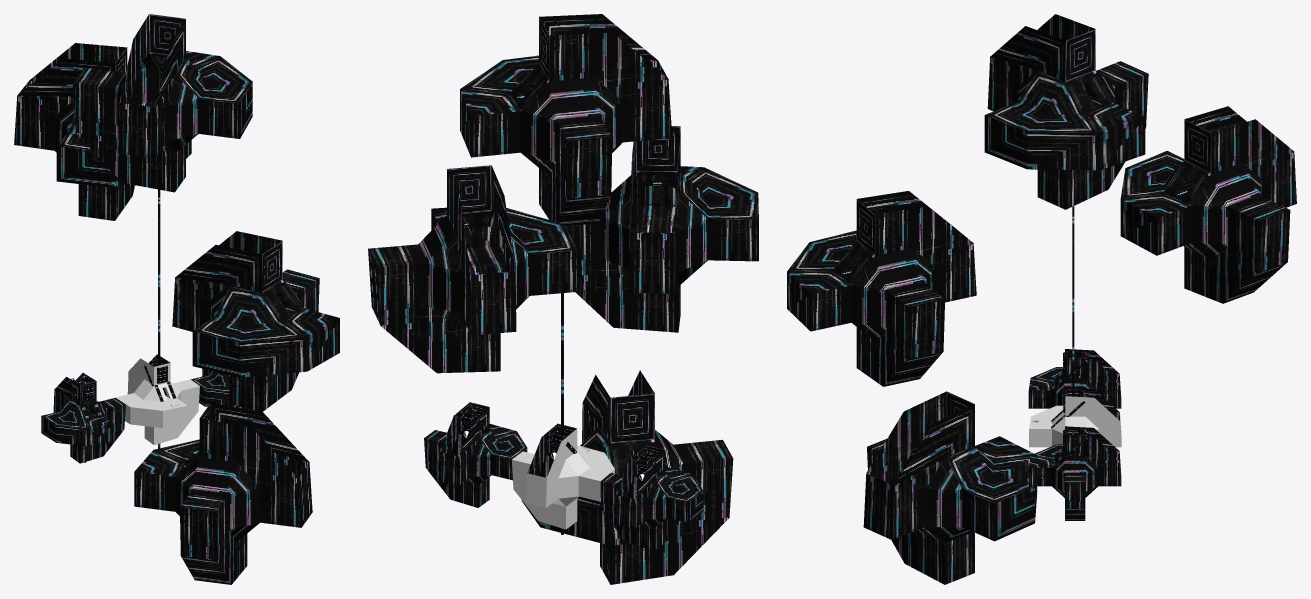
The model's file is test.xrf.glb.
3 views of the same model, side by side, from view 1: azimuth 30°, elevation 25°; view 2: azimuth 150°, elevation 25°; view 3: azimuth 270°, elevation 25° (orthographic). The views are drawn at different scales.
Parts seen in each view (by area): view 1: platform.009, platform.001, platform.007, platform.008, wireframe.001, wireframe, wireframe.002, pillar2.004; view 2: platform.007, platform.008, platform.009, platform.001, wireframe.001, wireframe.002, wireframe, platform; view 3: platform.008, platform.009, platform.007, platform.001, wireframe.002, wireframe.001, wireframe.
Boxes of the visible parts, left/top/right/bottom form: platform.009: left=172, top=231, right=339, bottom=412; platform.001: left=134, top=403, right=312, bottom=584; platform.007: left=73, top=14, right=252, bottom=192; platform.008: left=14, top=43, right=191, bottom=220; wireframe.001: left=41, top=373, right=125, bottom=463; wireframe: left=115, top=358, right=199, bottom=445; wireframe.002: left=191, top=368, right=254, bottom=410; pillar2.004: left=158, top=189, right=160, bottom=448; platform.007: left=460, top=14, right=672, bottom=226; platform.008: left=368, top=165, right=579, bottom=373; platform.009: left=565, top=126, right=758, bottom=332; platform.001: left=521, top=370, right=733, bottom=584; wireframe.001: left=600, top=445, right=703, bottom=550; wireframe.002: left=424, top=402, right=527, bottom=507; wireframe: left=511, top=428, right=614, bottom=529; platform: left=527, top=423, right=576, bottom=477; platform.008: left=1120, top=106, right=1296, bottom=303; platform.009: left=787, top=191, right=976, bottom=386; platform.007: left=984, top=14, right=1148, bottom=209; platform.001: left=863, top=391, right=1037, bottom=584; wireframe.002: left=1028, top=426, right=1121, bottom=520; wireframe.001: left=1028, top=349, right=1121, bottom=408; wireframe: left=1029, top=396, right=1121, bottom=447.
Bounding box in the file's own units: 766 × 1659 × 1416.
Materials: 4 (3 with a texture image).
